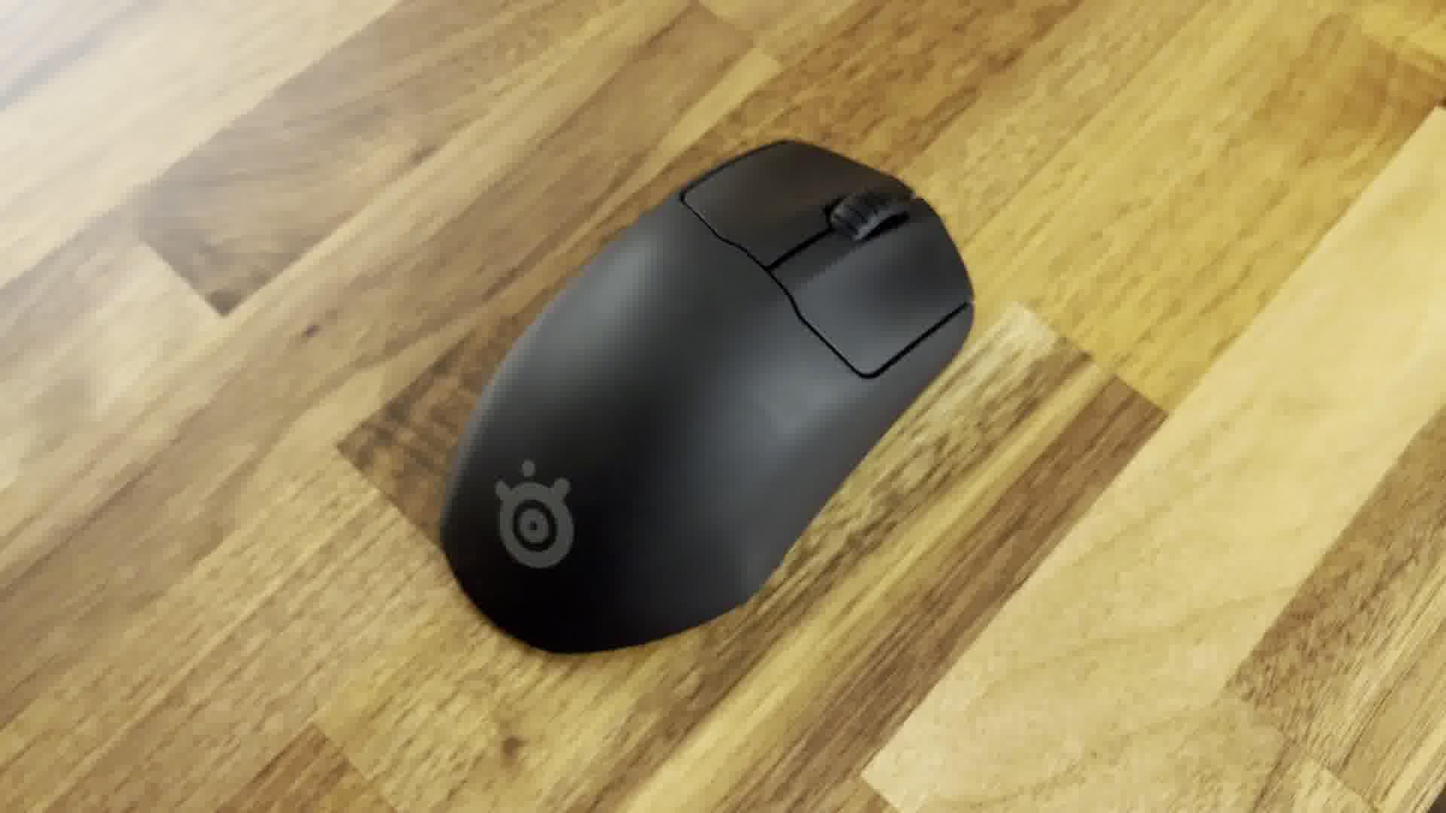mouse: (433, 134, 982, 660)
